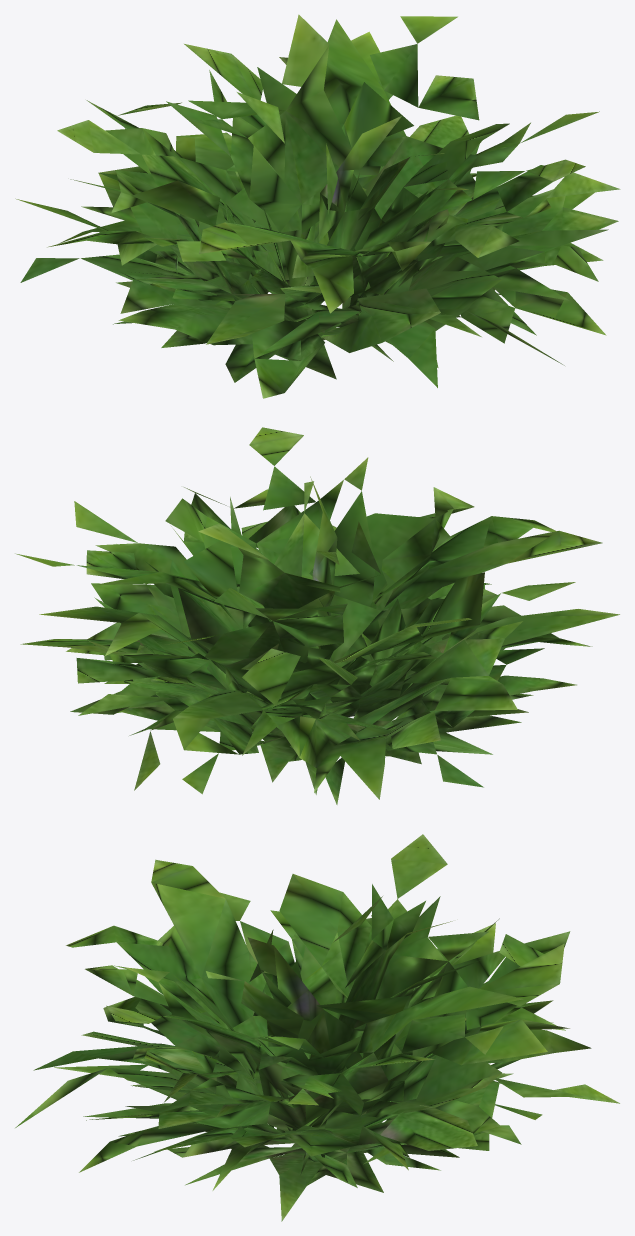
Rendered from fern-clump.lod.glb.
The picture shows the model from 3 angles, top to bottom: view 1: azimuth 30°, elevation 25°; view 2: azimuth 150°, elevation 25°; view 3: azimuth 270°, elevation 25°; orthographic projection. The views are drawn at different scales.
Size of the model in its own units: 1.71 by 0.7342 by 1.83.
Materials: 1 (1 with a texture image).
